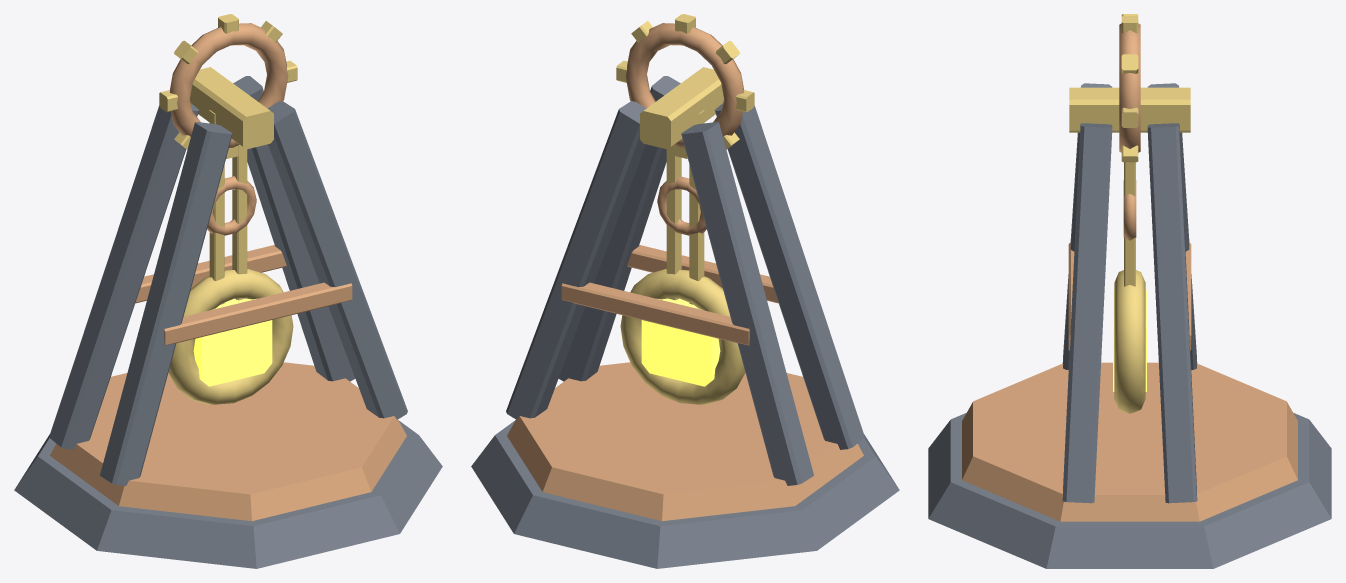
The model's file is prop_pendulum.glb.
3 views of the same model, side by side, from view 1: azimuth 30°, elevation 25°; view 2: azimuth 150°, elevation 25°; view 3: azimuth 270°, elevation 25° (orthographic).
Visible parts, largest first — view 1: Body, PendulumArm; view 2: Body, PendulumArm; view 3: Body, PendulumArm.
Boxes of the visible parts, bbox=[...] form: Body: bbox=[14, 14, 442, 568]; PendulumArm: bbox=[168, 110, 293, 404]; Body: bbox=[471, 14, 899, 568]; PendulumArm: bbox=[620, 110, 745, 404]; Body: bbox=[928, 14, 1331, 568]; PendulumArm: bbox=[1113, 162, 1146, 413].
Size of the model in its own units: 0.6652 by 0.845 by 0.6652.
